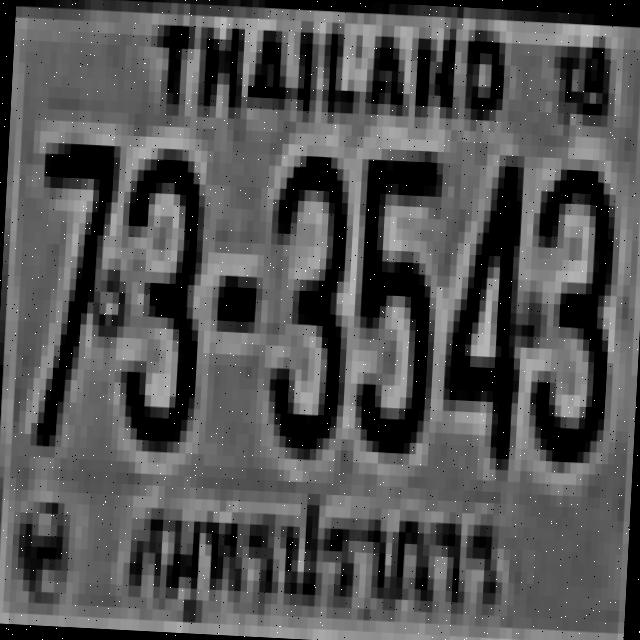3: (522, 162, 618, 458), (109, 146, 204, 442), (260, 143, 350, 450)
4: (440, 148, 524, 454)
5: (348, 148, 438, 444)
7: (28, 137, 118, 443)
SamutPrakan: (113, 461, 494, 640)
